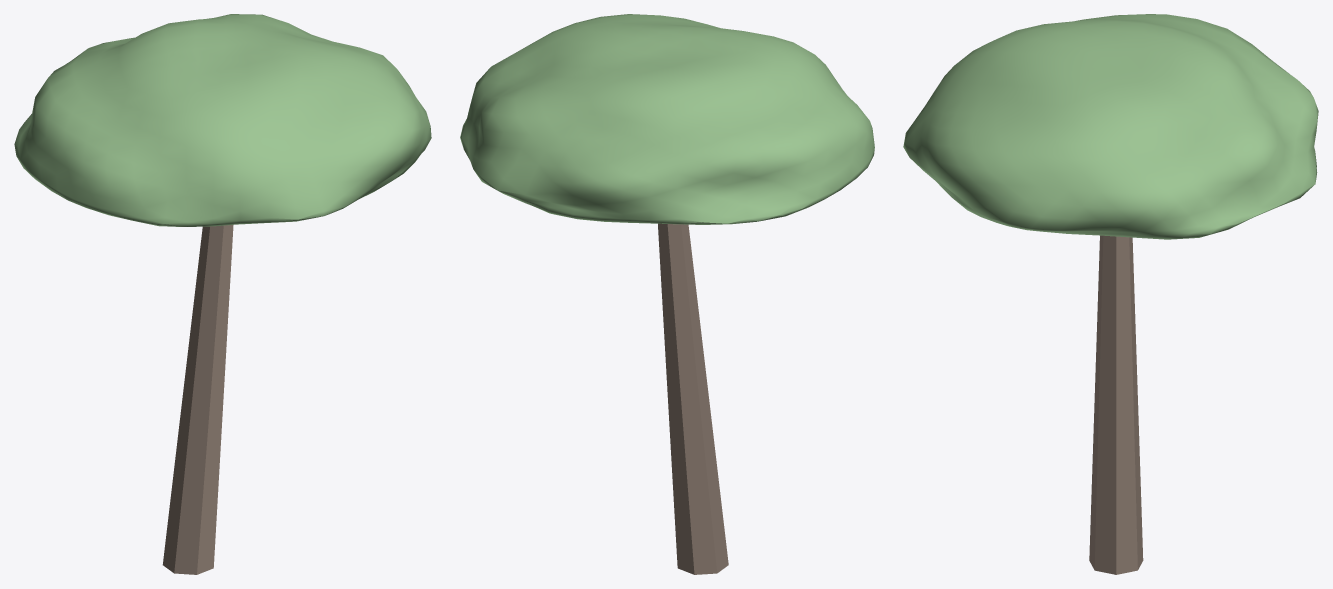
File: tree-pine-b.glb
3 renders of one model, left to right at view 1: azimuth 30°, elevation 25°; view 2: azimuth 150°, elevation 25°; view 3: azimuth 270°, elevation 25°, orthographic. The views are drawn at different scales.
Visible parts, largest first — view 1: tree-pine-b; view 2: tree-pine-b; view 3: tree-pine-b.
Boxes of the visible parts, x1,y1,x2,y2 form: tree-pine-b: (14,14,431,574); tree-pine-b: (460,14,874,574); tree-pine-b: (903,14,1318,574).
Bounding box in the file's own units: 0.7426 × 1 × 0.7162.
